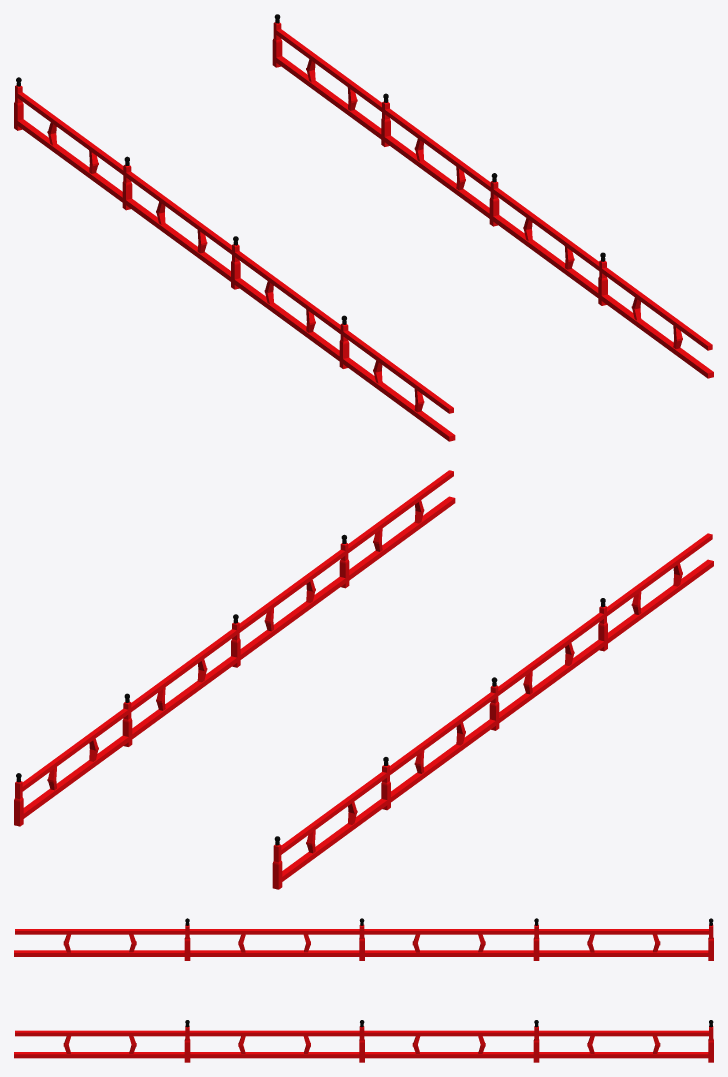
File: Barandales_Color.fbx
3 views of the same model, one above another, from view 1: azimuth 30°, elevation 25°; view 2: azimuth 150°, elevation 25°; view 3: azimuth 270°, elevation 25° (orthographic). The views are drawn at different scales.
Visible parts, largest first — view 1: Puente; view 2: Puente; view 3: Puente.
Boxes of the visible parts, box(x1,y1,x2,y2) form: Puente: box(14, 14, 713, 441); Puente: box(14, 470, 713, 889); Puente: box(14, 918, 713, 1062).
Size of the model in its own units: 1914 by 354 by 5445.
